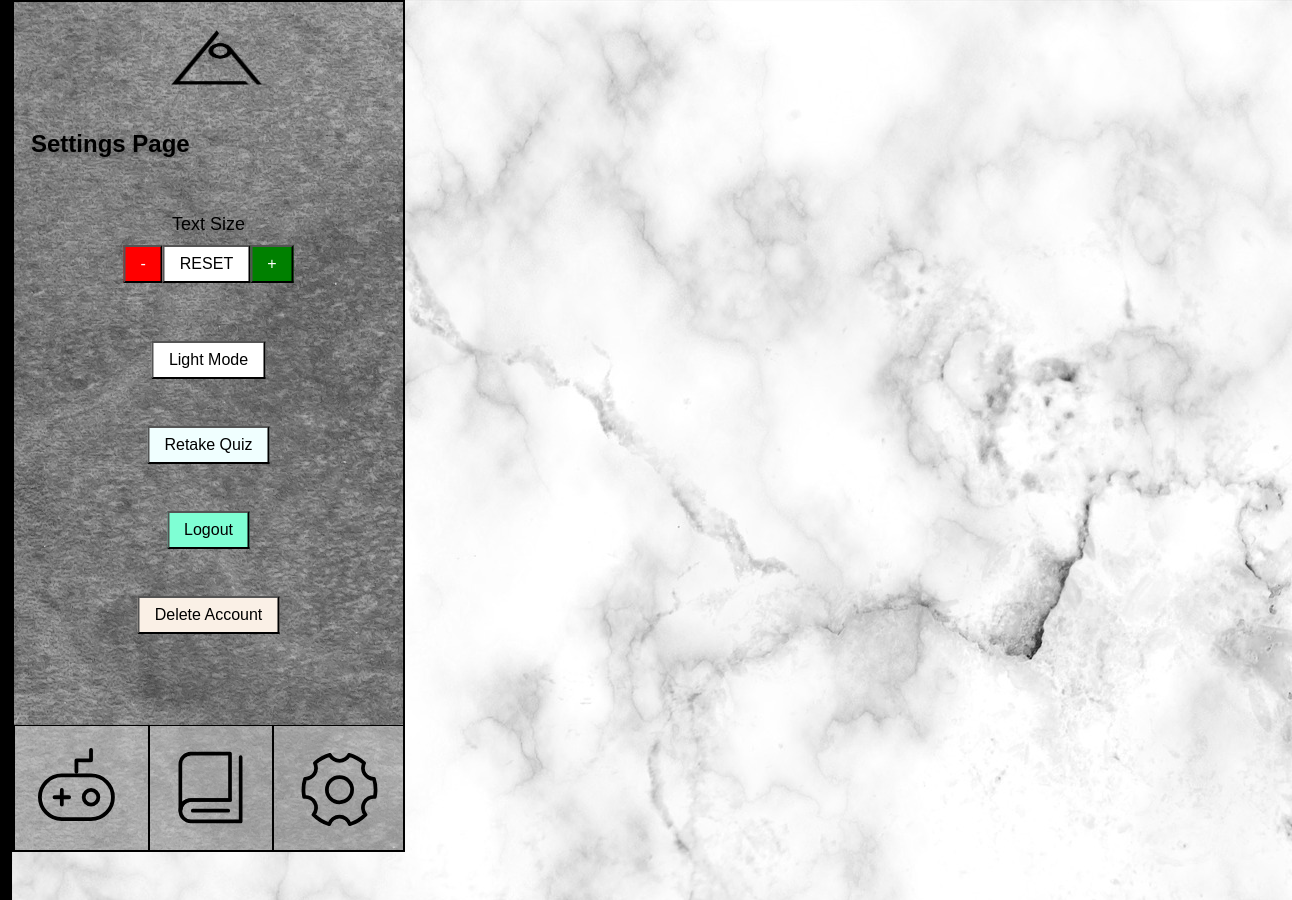
it: SettingsPage Component › shows delete account popup when delete account button is clicked
Step 1. Click the button "Delete Account" → coordinates (208, 615), box [138,596,279,634]
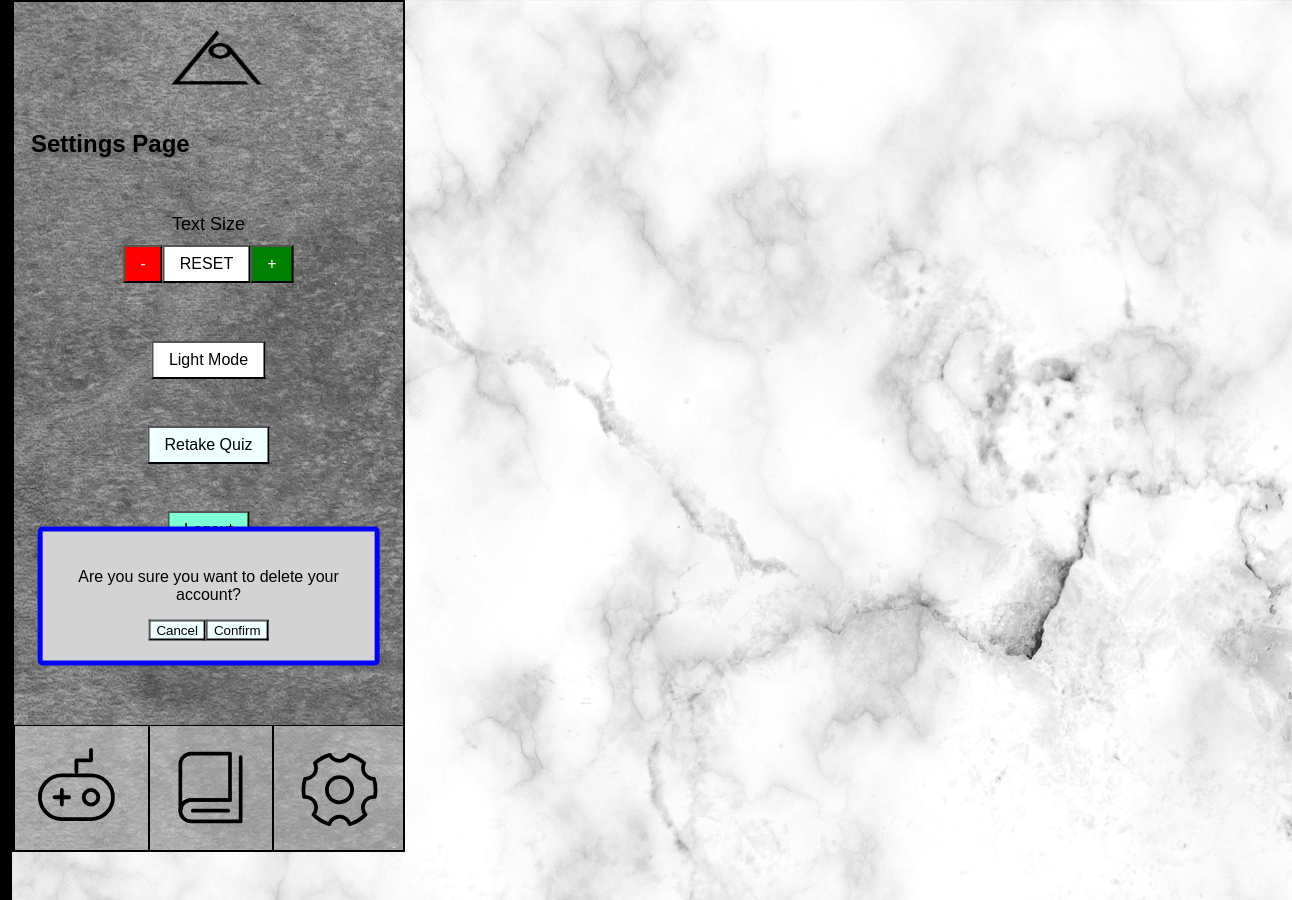
expect the element with test id "delete-account-popup" is shown: met, box [38,526,379,665]
